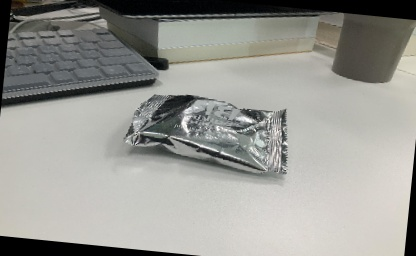br: (120, 86, 296, 179)
